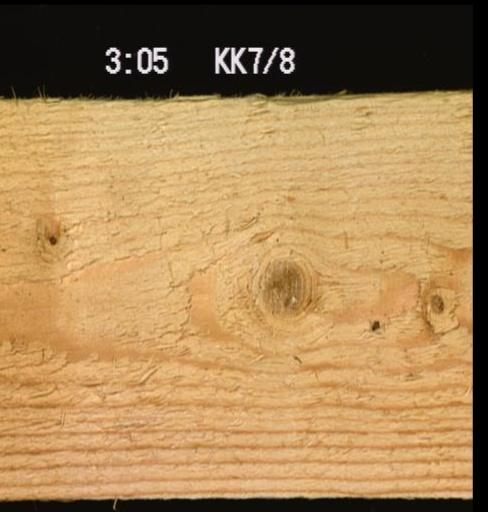small_knot: (36, 224, 66, 250), (363, 309, 385, 338)
sound_knot: (254, 250, 314, 317), (415, 281, 463, 337)
split: (166, 93, 274, 107)
